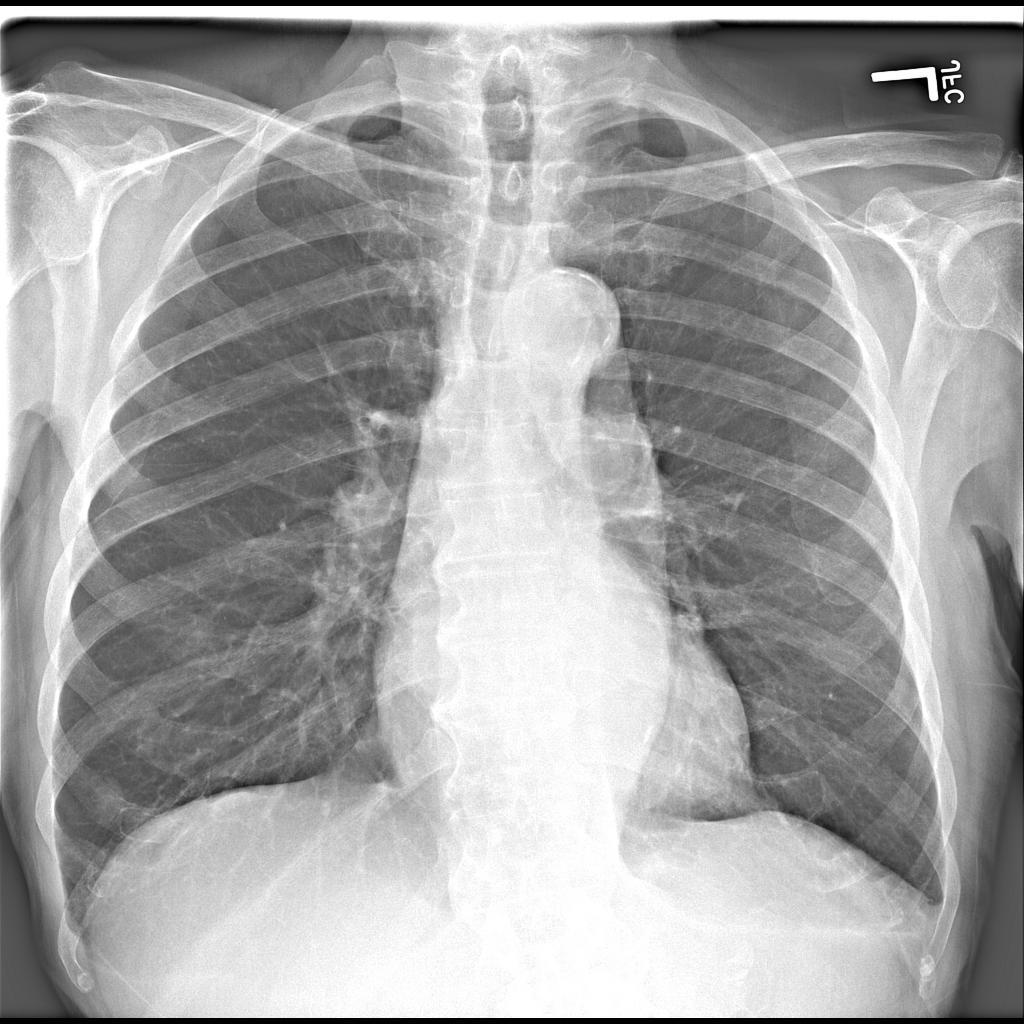Nodule: (333, 461, 397, 542)
